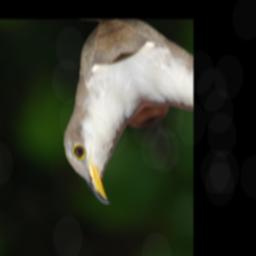Cuckoo: (21, 20, 175, 213)
